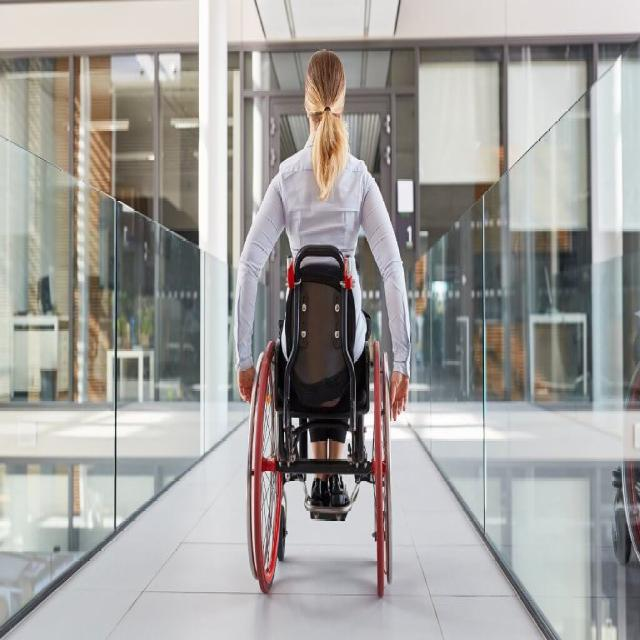wheelchairs: (239, 235, 416, 614)
